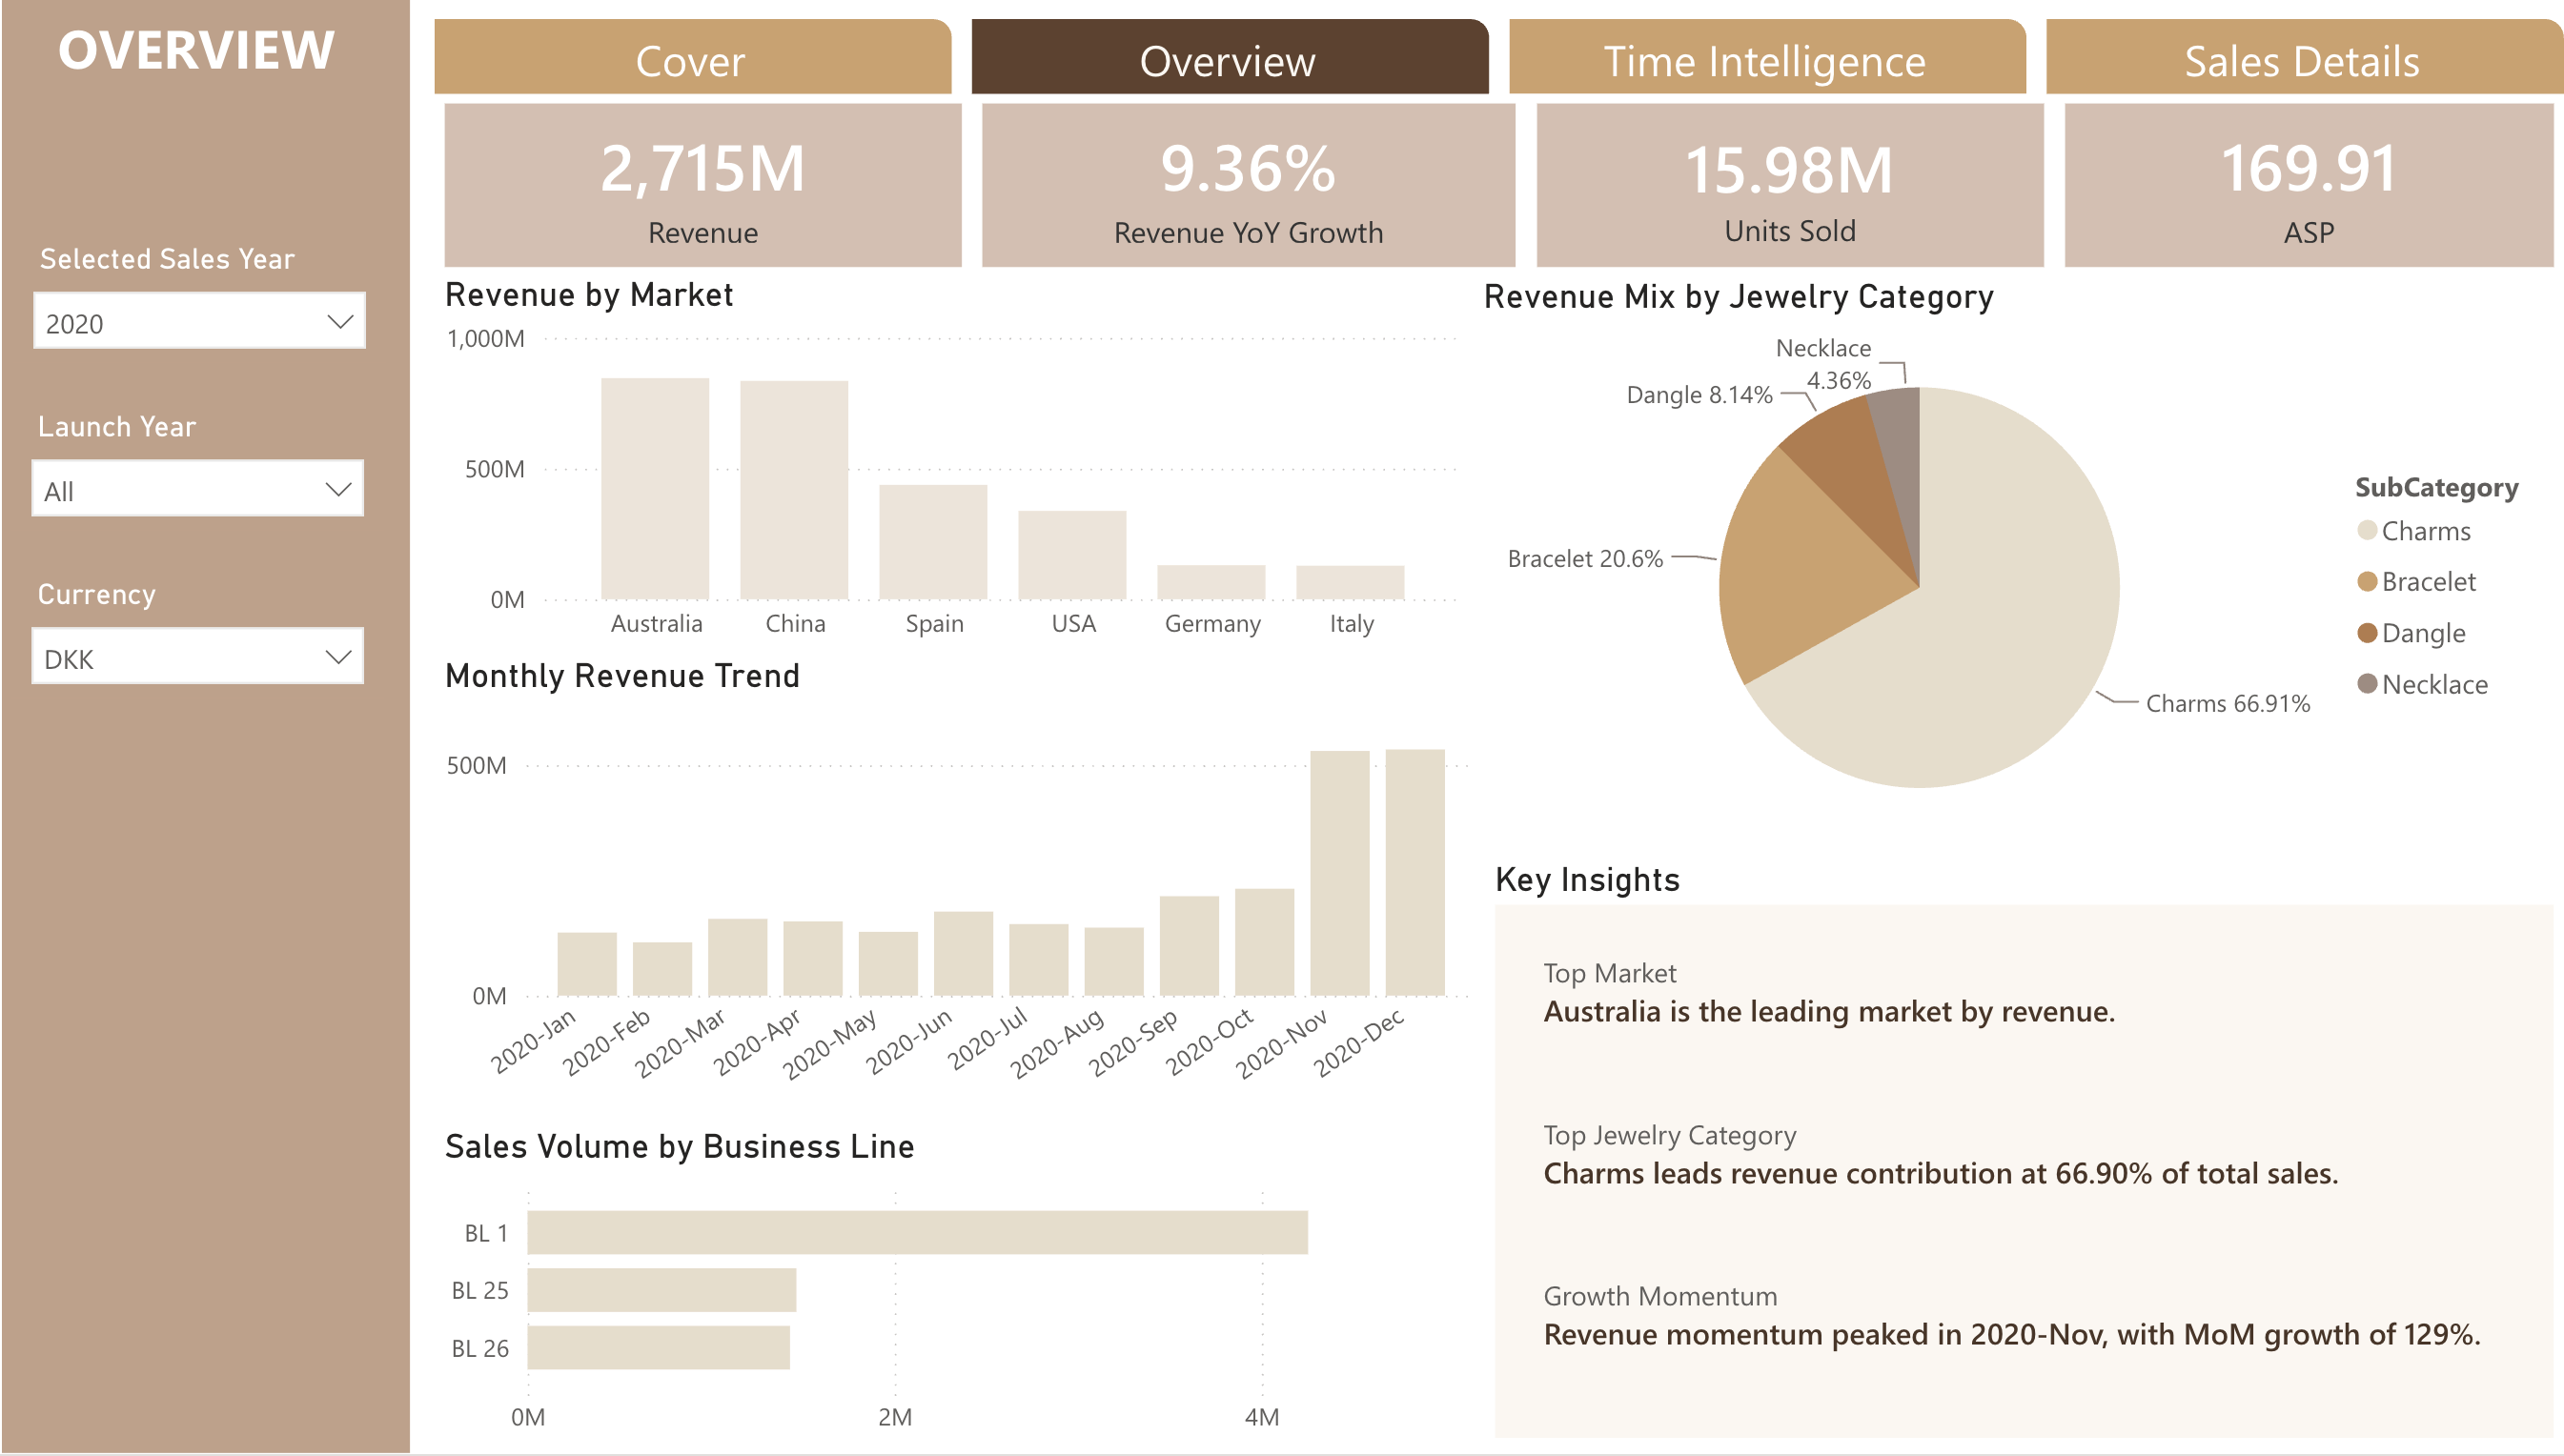

The dashboard page shown, as its layout file describes it:
{"tool":"powerbi","page":{"name":"Overview","canvas":[1280,720],"ordinal":1},"visuals":[{"type":"shape","box":[0,0,202.1,719.4],"z":0},{"type":"textbox","box":[22.9,0,157.6,46.5],"z":1000},{"type":"slicer","title":"Selected Sales Year","fields":{"Values":["DimDate.Year"]},"box":[5.4,116.2,184.7,63.3],"z":2000},{"type":"slicer","title":"Selected Sales Year","fields":{"Values":["DimProduct.Launch Year"]},"box":[5.1,198.7,184.7,63.3],"z":3000},{"type":"slicer","title":"Selected Sales Year","fields":{"Values":["DimCurrency.Currency"]},"box":[5.1,281.9,184.7,63.3],"z":4000},{"type":"cardVisual","fields":{"Data":["FactSalesOverview.ASP"]},"box":[1016.2,46.4,252.8,91.6],"z":5000},{"type":"cardVisual","fields":{"Data":["FactSalesOverview.TotalSales"]},"box":[213.7,46.4,266.3,91.6],"z":6000},{"type":"cardVisual","fields":{"Data":["FactSalesOverview.TotalSalesQty"]},"box":[754.8,46.4,261.4,91.6],"z":7000},{"type":"cardVisual","fields":{"Data":["FactSalesOverview.TotalSales_YoY%"]},"box":[480,46.4,274.8,91.6],"z":8000},{"type":"columnChart","title":"Revenue by Market","fields":{"Y":["FactSalesOverview.TotalSales"],"Category":["DimBusinessLine.Country"]},"box":[214,137.6,514.3,188.9],"z":9000},{"type":"columnChart","title":"Monthly Revenue Trend","fields":{"Category":["DimDate.Year Month Name"],"Y":["FactSalesOverview.TotalSales"]},"box":[214,326.6,520.5,231.5],"z":10000},{"type":"pieChart","title":"Revenue Mix by Jewelry Category","fields":{"Y":["FactSalesOverview.TotalSales"],"Category":["DimProduct.SubCategory"]},"box":[728.2,138.9,540.5,289],"z":11000},{"type":"clusteredBarChart","title":"Sales Volume by Business Line","fields":{"Y":["FactSalesOverview.TotalSalesQty"],"Category":["DimBusinessLine.Business Line Name"]},"box":[214,559.3,514.3,160.2],"z":12000},{"type":"pageNavigator","box":[214.2,9.1,1055.3,37.9],"z":13000},{"type":"cardVisual","title":"Key Insights","fields":{"Data":["FactSalesOverview.Top Market Insight","FactSalesOverview.Product Insight","FactSalesOverview.Insight_Growth Momentum"]},"box":[734.5,427.9,534.3,291.5],"z":14000}]}

Visuals, with their boxes in screenshot pixels (x1, y1, x2, y2), scaled from the page's 1280x720 canvas onto the 2564x1456 screenshot:
shape: [0,0,405,1455]
textbox: [46,0,361,94]
"Selected Sales Year" slicer: [10,235,381,363]
"Selected Sales Year" slicer: [10,402,380,530]
"Selected Sales Year" slicer: [10,570,380,698]
cardVisual - FactSalesOverview.ASP: [2036,93,2542,279]
cardVisual - FactSalesOverview.TotalSales: [428,93,962,279]
cardVisual - FactSalesOverview.TotalSalesQty: [1512,93,2036,279]
cardVisual - FactSalesOverview.TotalSales_YoY%: [962,93,1512,279]
"Revenue by Market" columnChart: [429,278,1459,660]
"Monthly Revenue Trend" columnChart: [429,660,1472,1128]
"Revenue Mix by Jewelry Category" pieChart: [1458,281,2541,865]
"Sales Volume by Business Line" clusteredBarChart: [429,1131,1459,1455]
pageNavigator: [429,18,2543,95]
"Key Insights" cardVisual: [1472,865,2541,1455]
